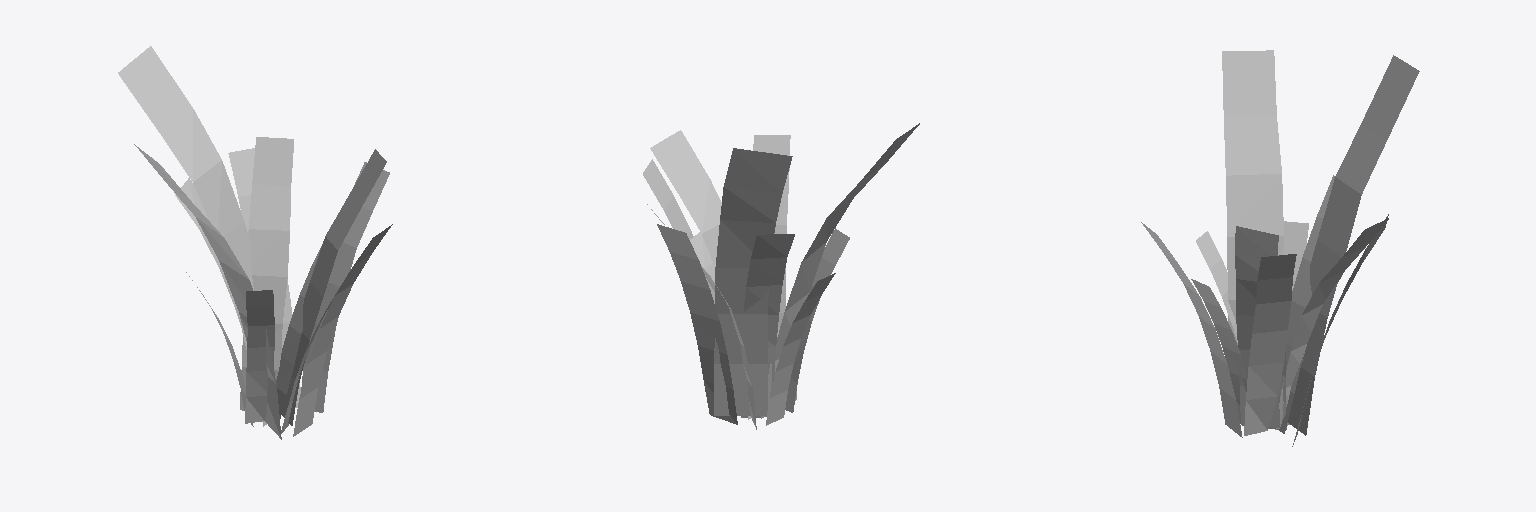
Rendered from grass.obj.
3 renders of one model, left to right at view 1: azimuth 30°, elevation 25°; view 2: azimuth 150°, elevation 25°; view 3: azimuth 270°, elevation 25°, orthographic.
Visible parts, largest first — view 1: Foliage01_col; view 2: Foliage01_col; view 3: Foliage01_col.
Boxes of the visible parts, x1=… form: Foliage01_col: x1=118, y1=46, x2=392, y2=439; Foliage01_col: x1=643, y1=123, x2=919, y2=429; Foliage01_col: x1=1141, y1=50, x2=1419, y2=446.
Size of the model in its own units: 0.6356 by 0.8155 by 0.6161.